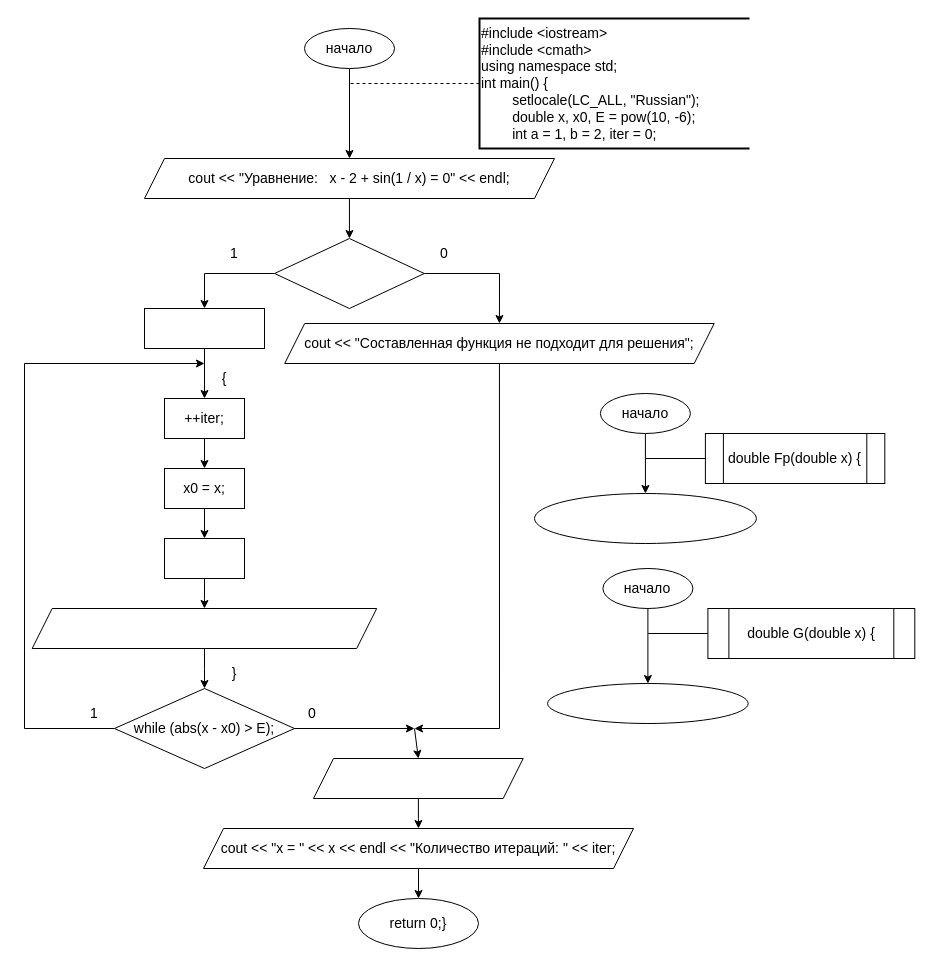
This 933x966 diagram has some shape labels left out. The shapes that lost their labels are listed below. From the top down, each one's box as (x1, y1, x2, y2) in pixels, then its label:
(274, 238, 424, 308): if (abs(Fp(b)) < 1)
(144, 308, 264, 348): x = (a + b) / 2;
(534, 492, 756, 544): return (cos(1 / x)) / pow(x, 2);}
(164, 538, 244, 578): x = G(x0);
(31, 608, 377, 648): cout << "Итерация " << iter << ": " << x << endl;
(547, 682, 748, 724): return 2 - (sin(1 / x));
(312, 758, 523, 798): cout << "------------" << endl;
